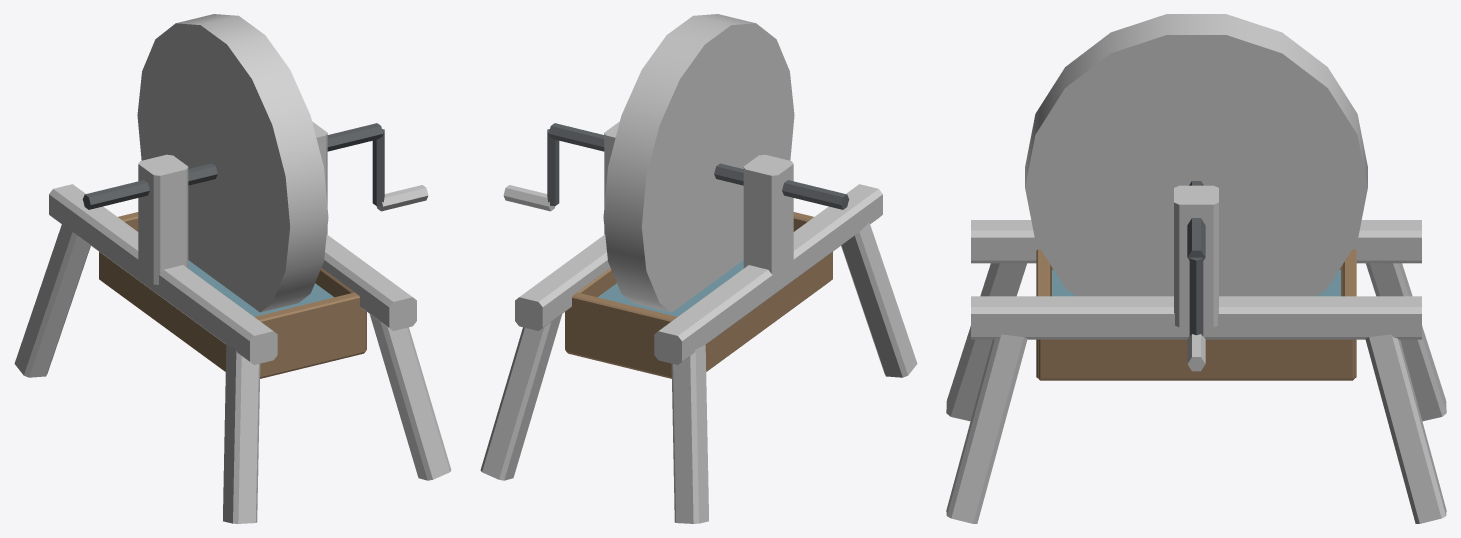
File: furn_grindstone.glb
3 renders of one model, left to right at view 1: azimuth 30°, elevation 25°; view 2: azimuth 150°, elevation 25°; view 3: azimuth 270°, elevation 25°, orthographic. The views are drawn at different scales.
Visible parts, largest first — view 1: furn_grindstone; view 2: furn_grindstone; view 3: furn_grindstone.
Part boxes in pixels (x1=…): furn_grindstone: x1=14, y1=14, x2=451, y2=523; furn_grindstone: x1=480, y1=14, x2=917, y2=523; furn_grindstone: x1=946, y1=14, x2=1446, y2=523.
Size of the model in its own units: 0.97 by 1.09 by 1.11.
